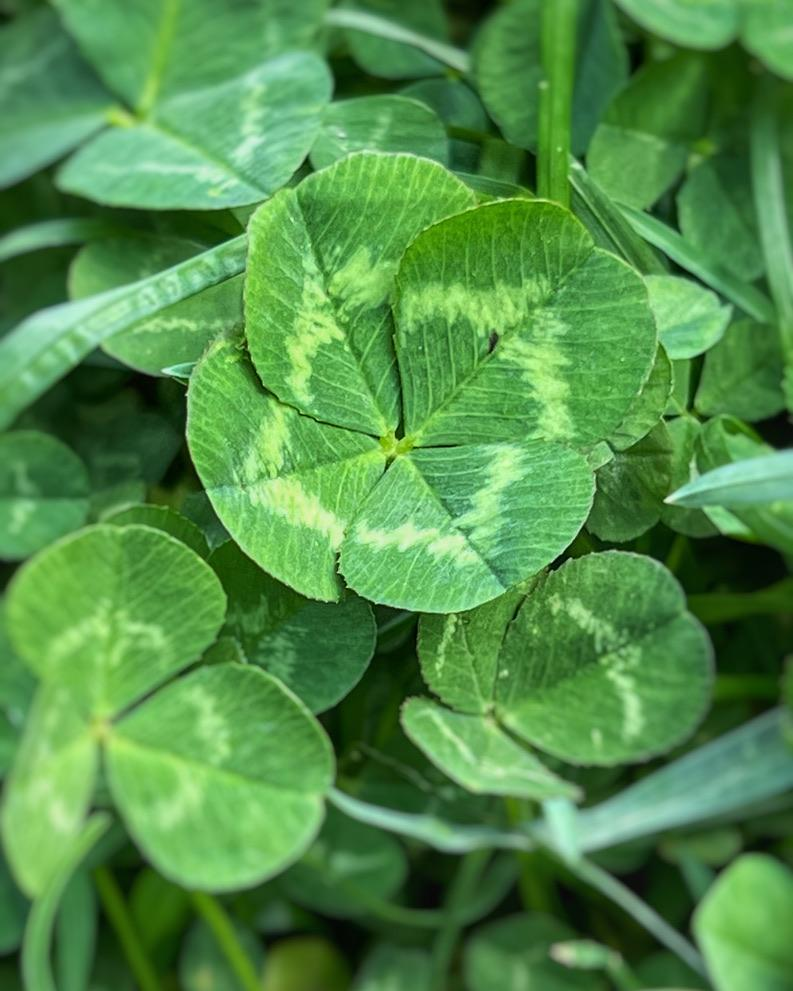4-Leaf-Clovers: (189, 150, 657, 615)
